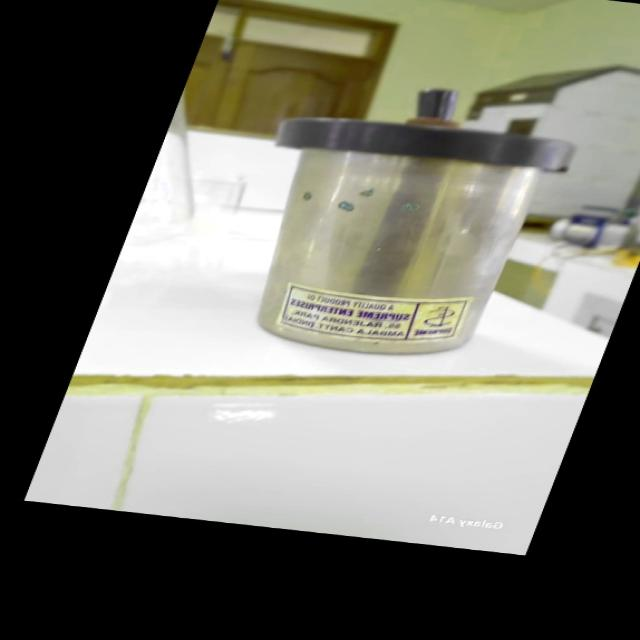Calorimeter: (188, 65, 609, 368)
